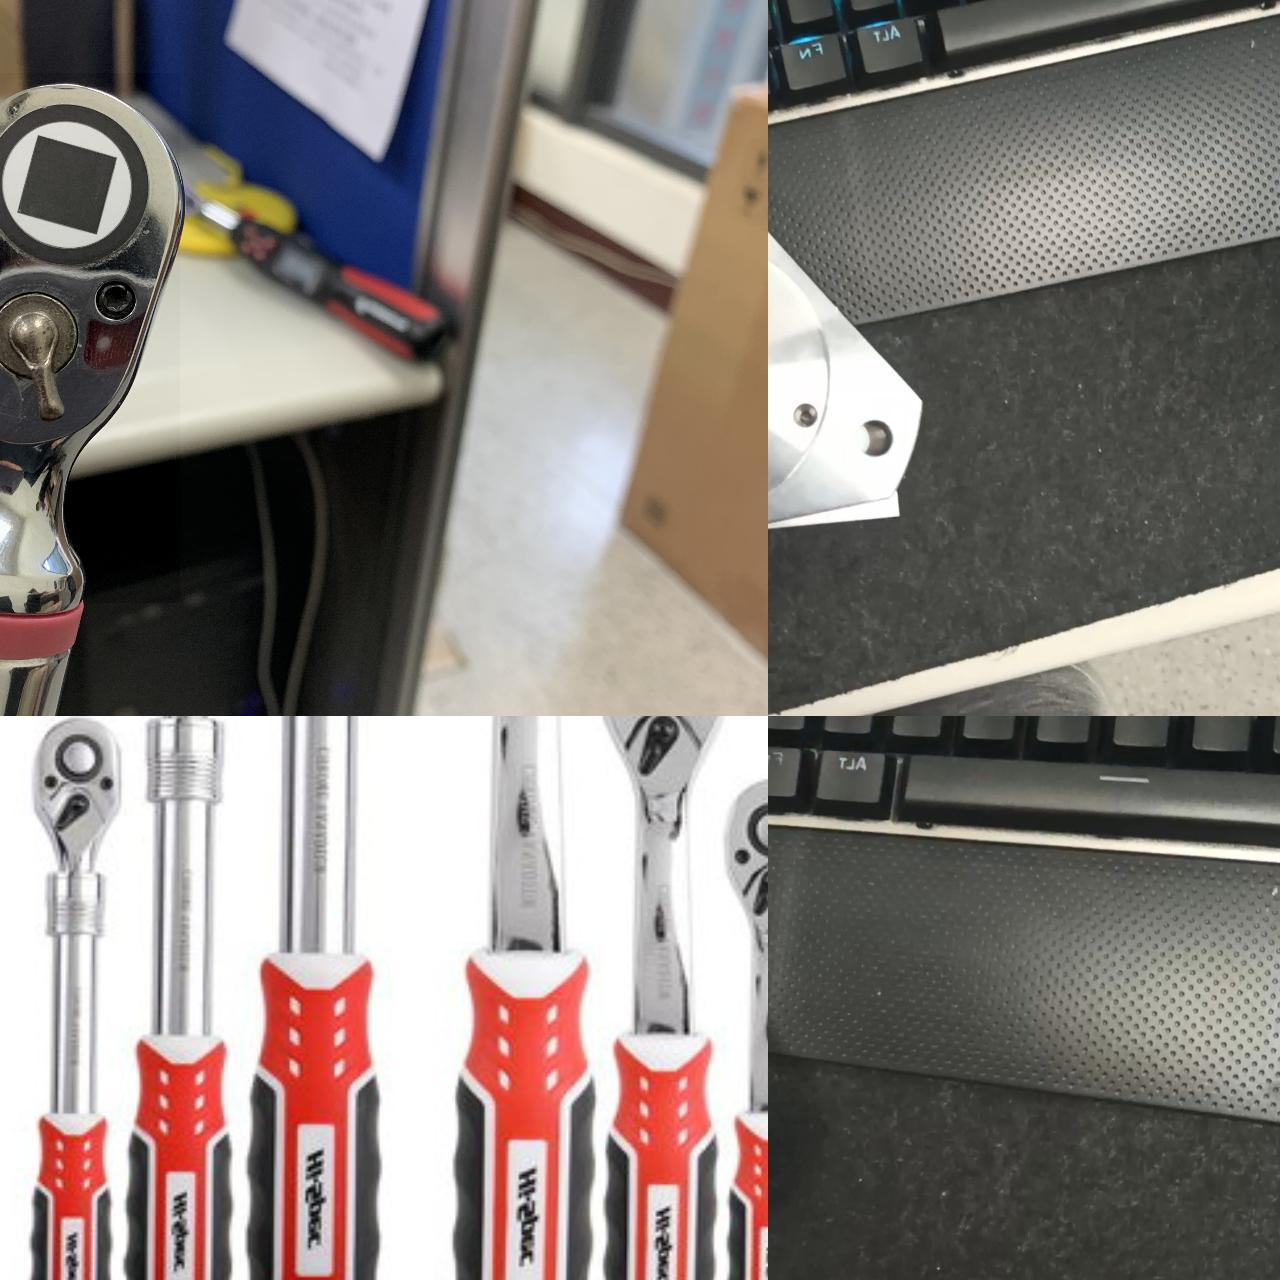Tool: (0, 73, 181, 602), (26, 716, 125, 870), (600, 716, 726, 825), (723, 775, 768, 959)
